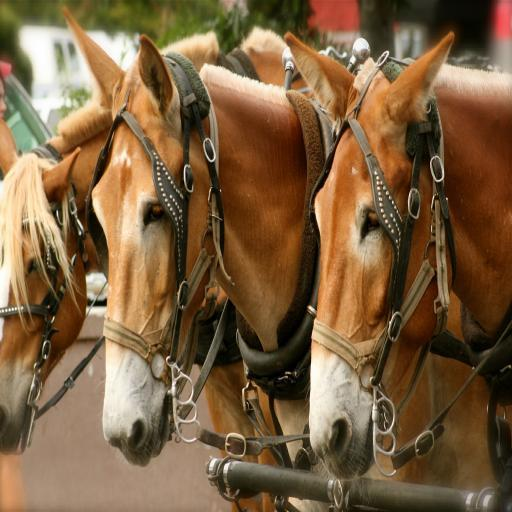horse: (64, 8, 511, 512), (0, 24, 324, 508), (284, 27, 511, 482)
